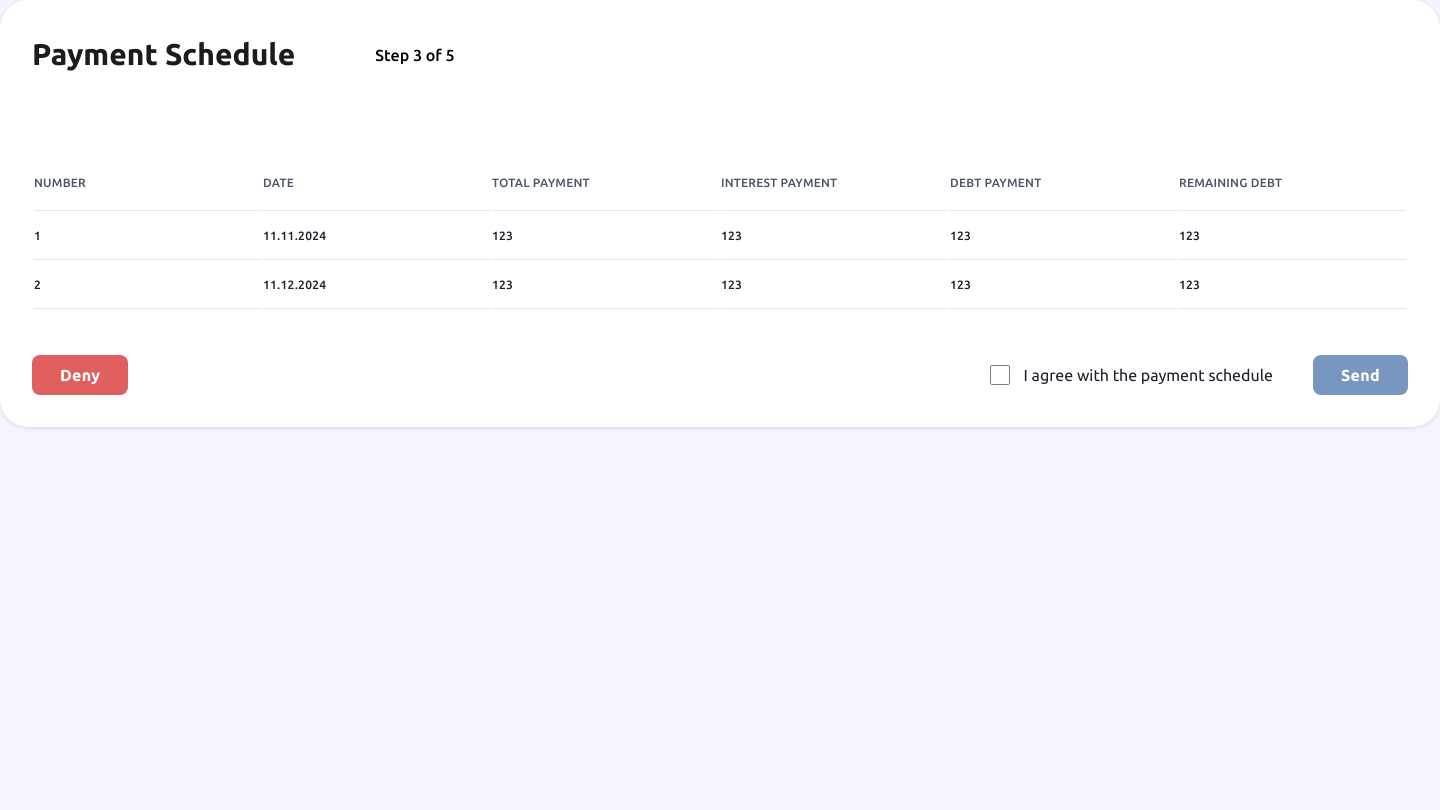
it: PaymentSchedule › Show modal
This screenshot has width=1440, height=810.
What coordinates should you click on to do the following:
click the button "Deny"
I would click on:
 (80, 375)
Its box is [32,355,128,395].
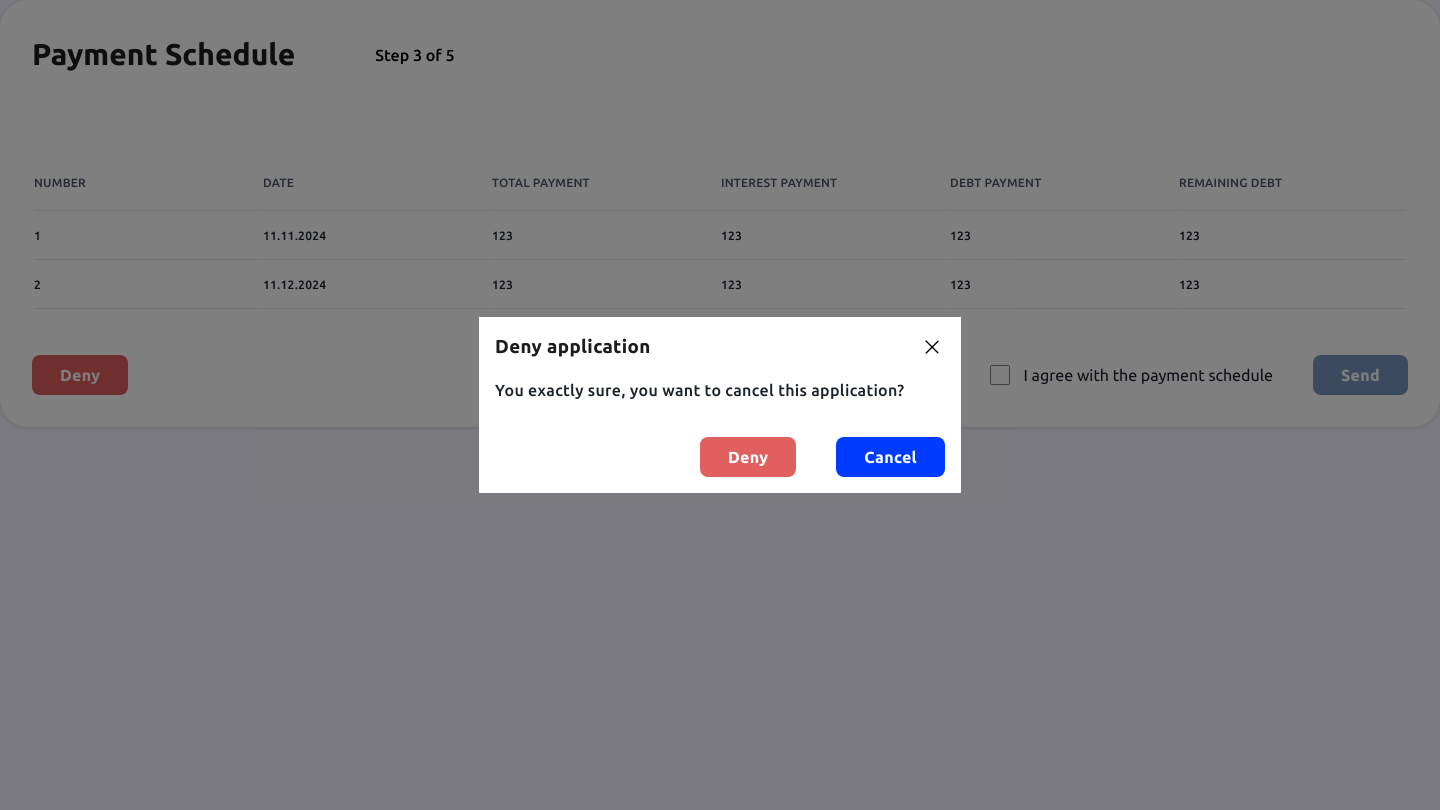
Expected: the heading "Deny application" is shown, [495,336,651,358]
